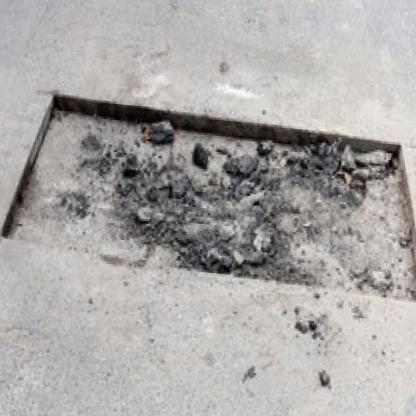pothole: (0, 83, 416, 303)
